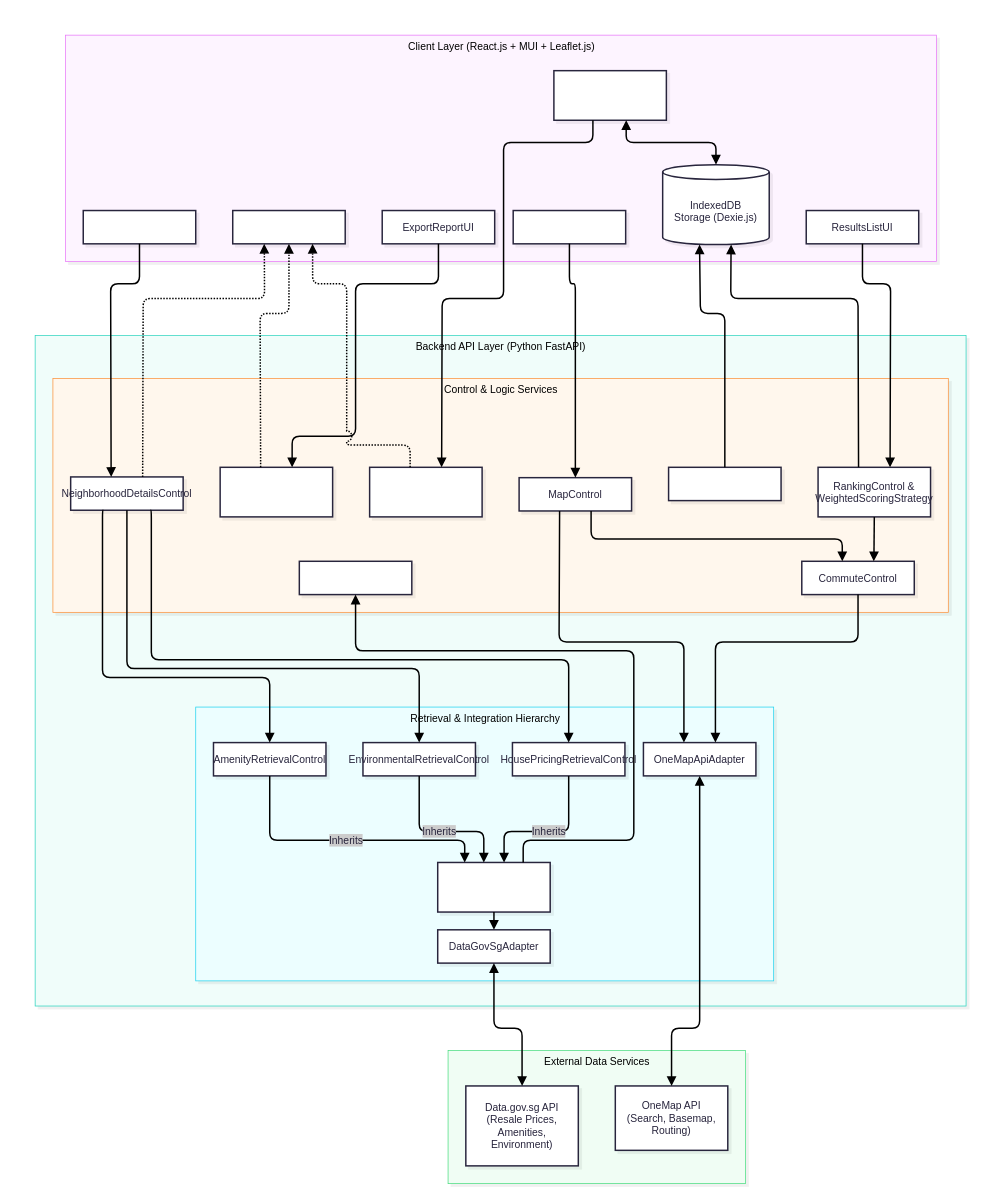
The diagram is 982 pixels wide and 1200 high, and some of its shapes have lost their labels. The centre of each missing label's shape, as x and y in pixels:
DataAvailabilityNotifier: point 356,579
FactSheetUI: point 140,228
NeighborhoodMapUI: point 570,228
NotificationModalUI: point 290,228
ProfileControl & InputValidationControl: point 427,493
ProfileFormUI / ProfileSelectorUI: point 611,97
ReportControl (WeasyPrint): point 277,493
RetrievalControl (Abstract Base): point 495,888
SystemStartupControl: point 725,485
